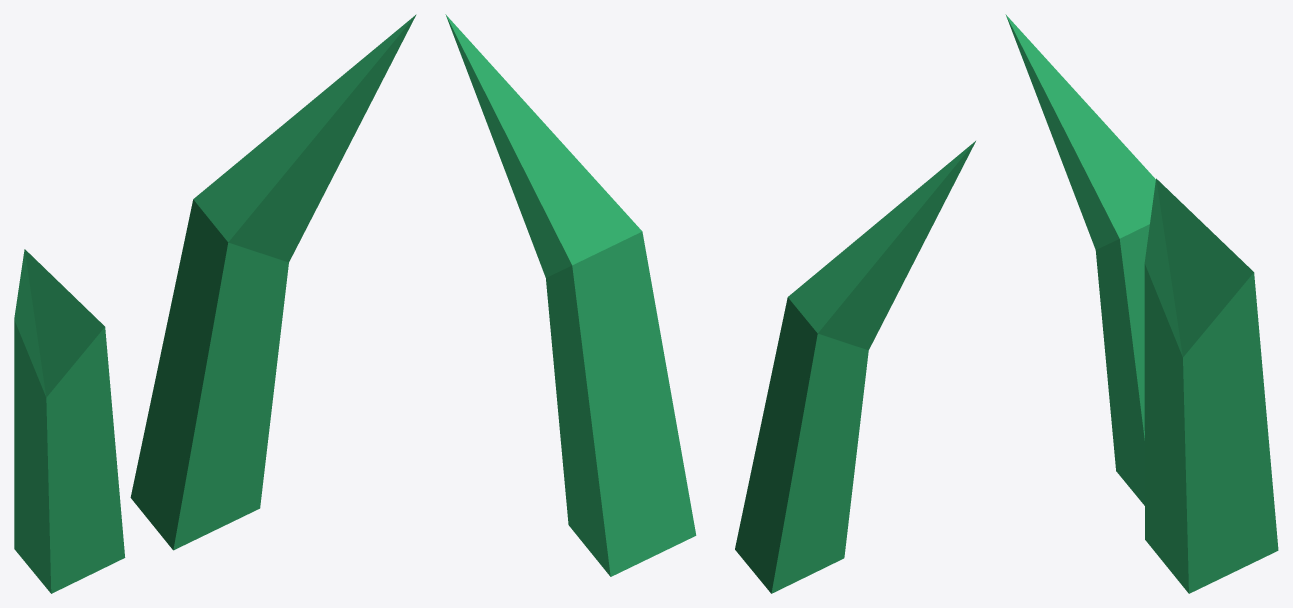
The model's file is grass_018.glb.
3 renders of one model, left to right at view 1: azimuth 30°, elevation 25°; view 2: azimuth 150°, elevation 25°; view 3: azimuth 270°, elevation 25°, orthographic. The views are drawn at different scales.
Visible parts, largest first — view 1: Circle.018_Grass_0; view 2: Circle.018_Grass_0; view 3: Circle.018_Grass_0.
Part boxes in pixels (bbox=[...]): Circle.018_Grass_0: bbox=[14, 14, 416, 593]; Circle.018_Grass_0: bbox=[445, 14, 975, 593]; Circle.018_Grass_0: bbox=[1005, 14, 1278, 593].
Bounding box in the file's own units: 1.34 × 1.3 × 0.6611.
